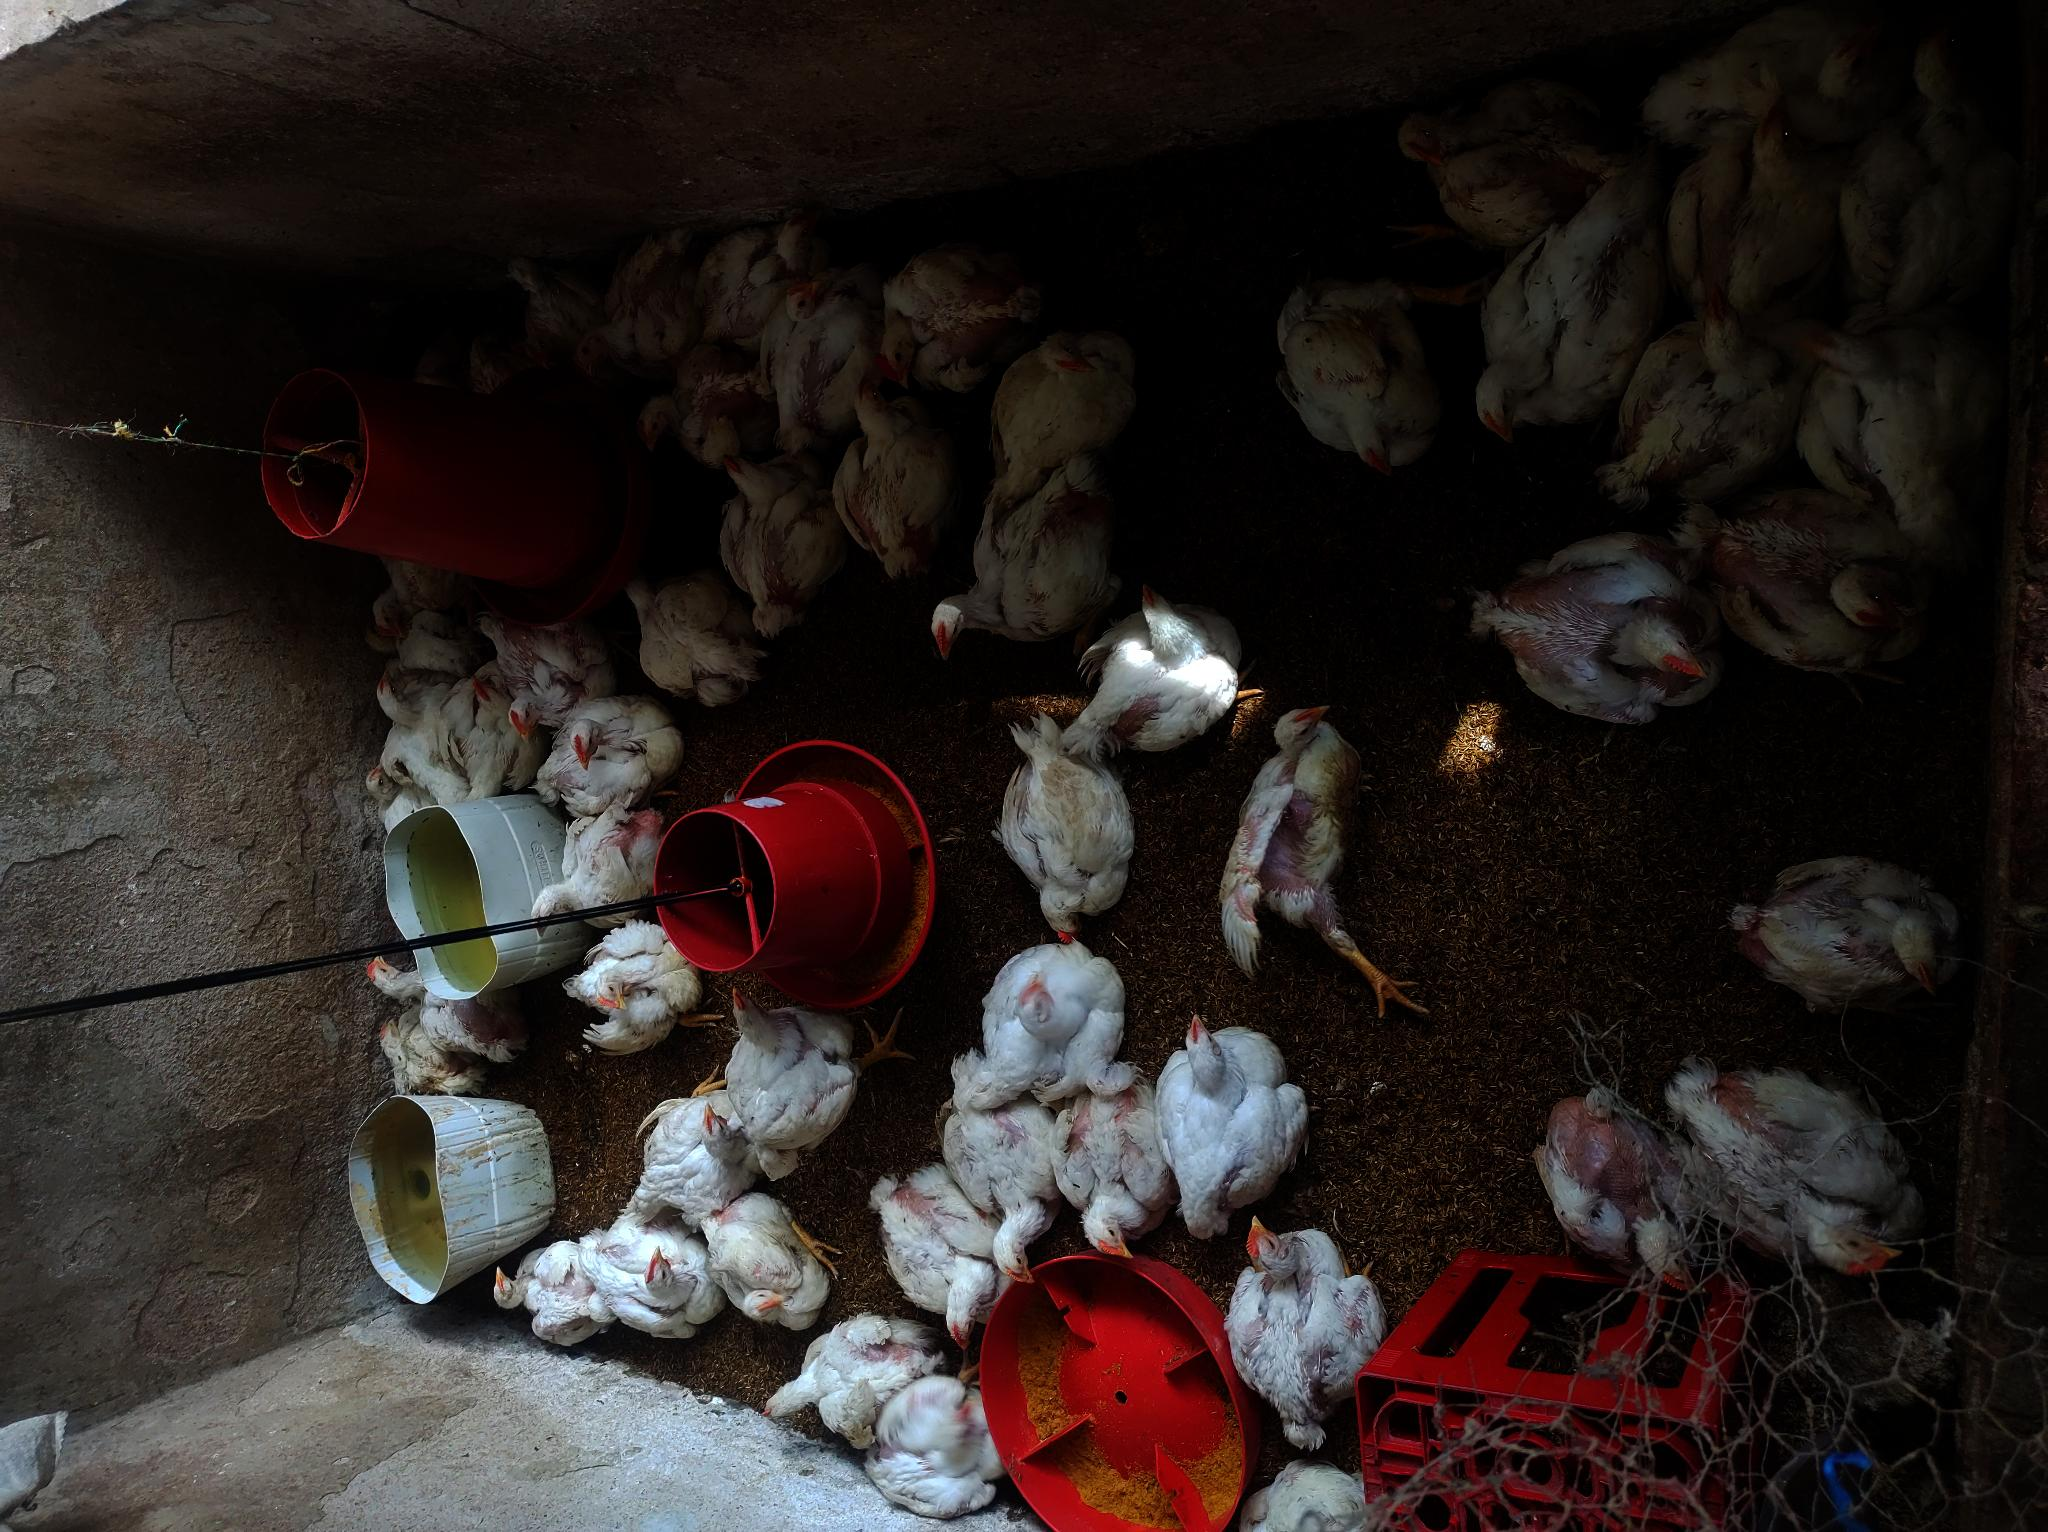Pollos: (1667, 1032, 1955, 1316), (1709, 813, 2022, 1041), (1454, 182, 1663, 467), (1795, 311, 2001, 565), (1488, 526, 1721, 747), (1844, 26, 2035, 291), (1700, 478, 1919, 706), (1224, 697, 1396, 982), (1211, 1220, 1424, 1424), (914, 451, 1133, 649), (1256, 269, 1454, 488), (1158, 1004, 1324, 1239), (962, 311, 1162, 504), (1385, 76, 1609, 246), (989, 710, 1154, 940), (1673, 113, 1844, 320), (1635, 298, 1799, 513), (1532, 1078, 1696, 1292), (706, 966, 869, 1167), (1063, 579, 1248, 755), (952, 940, 1136, 1107), (1654, 3, 1881, 132), (745, 1294, 914, 1460), (935, 1101, 1071, 1292), (1039, 1064, 1171, 1262), (515, 798, 685, 949), (360, 933, 533, 1083), (587, 219, 735, 389), (861, 1369, 1015, 1532), (870, 1163, 1002, 1342), (573, 924, 729, 1073), (859, 254, 1051, 375), (718, 451, 833, 629), (623, 550, 750, 713), (837, 375, 944, 562), (693, 1192, 838, 1324), (618, 1073, 746, 1221), (478, 1233, 610, 1369), (763, 269, 878, 423), (581, 1217, 727, 1337), (502, 587, 603, 753), (547, 692, 679, 814), (1229, 1427, 1377, 1532), (711, 212, 816, 348), (479, 237, 571, 370), (352, 660, 459, 753), (365, 1011, 439, 1117), (364, 546, 467, 620), (359, 592, 436, 677), (351, 752, 430, 832), (462, 677, 539, 732)
